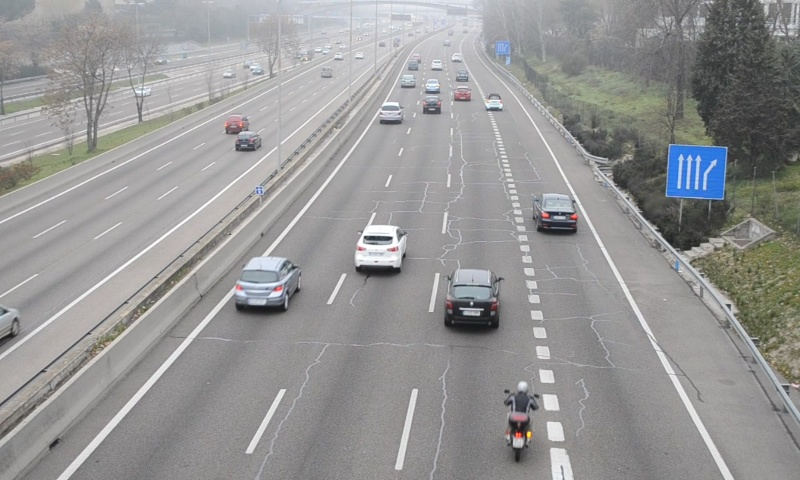car: (232, 255, 298, 310), (444, 267, 498, 328), (353, 224, 408, 270), (533, 193, 578, 234), (379, 102, 404, 124), (484, 92, 503, 112), (423, 95, 442, 113), (454, 86, 472, 102), (424, 78, 441, 94)
motorcycle: (500, 381, 543, 460)
